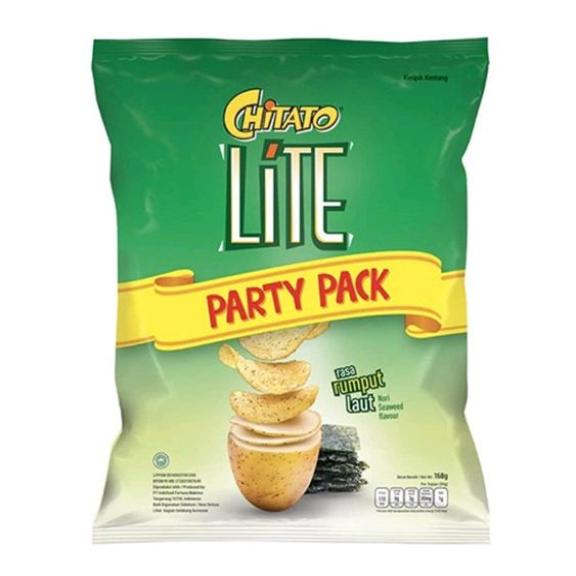Plastik: (92, 38, 490, 543)
